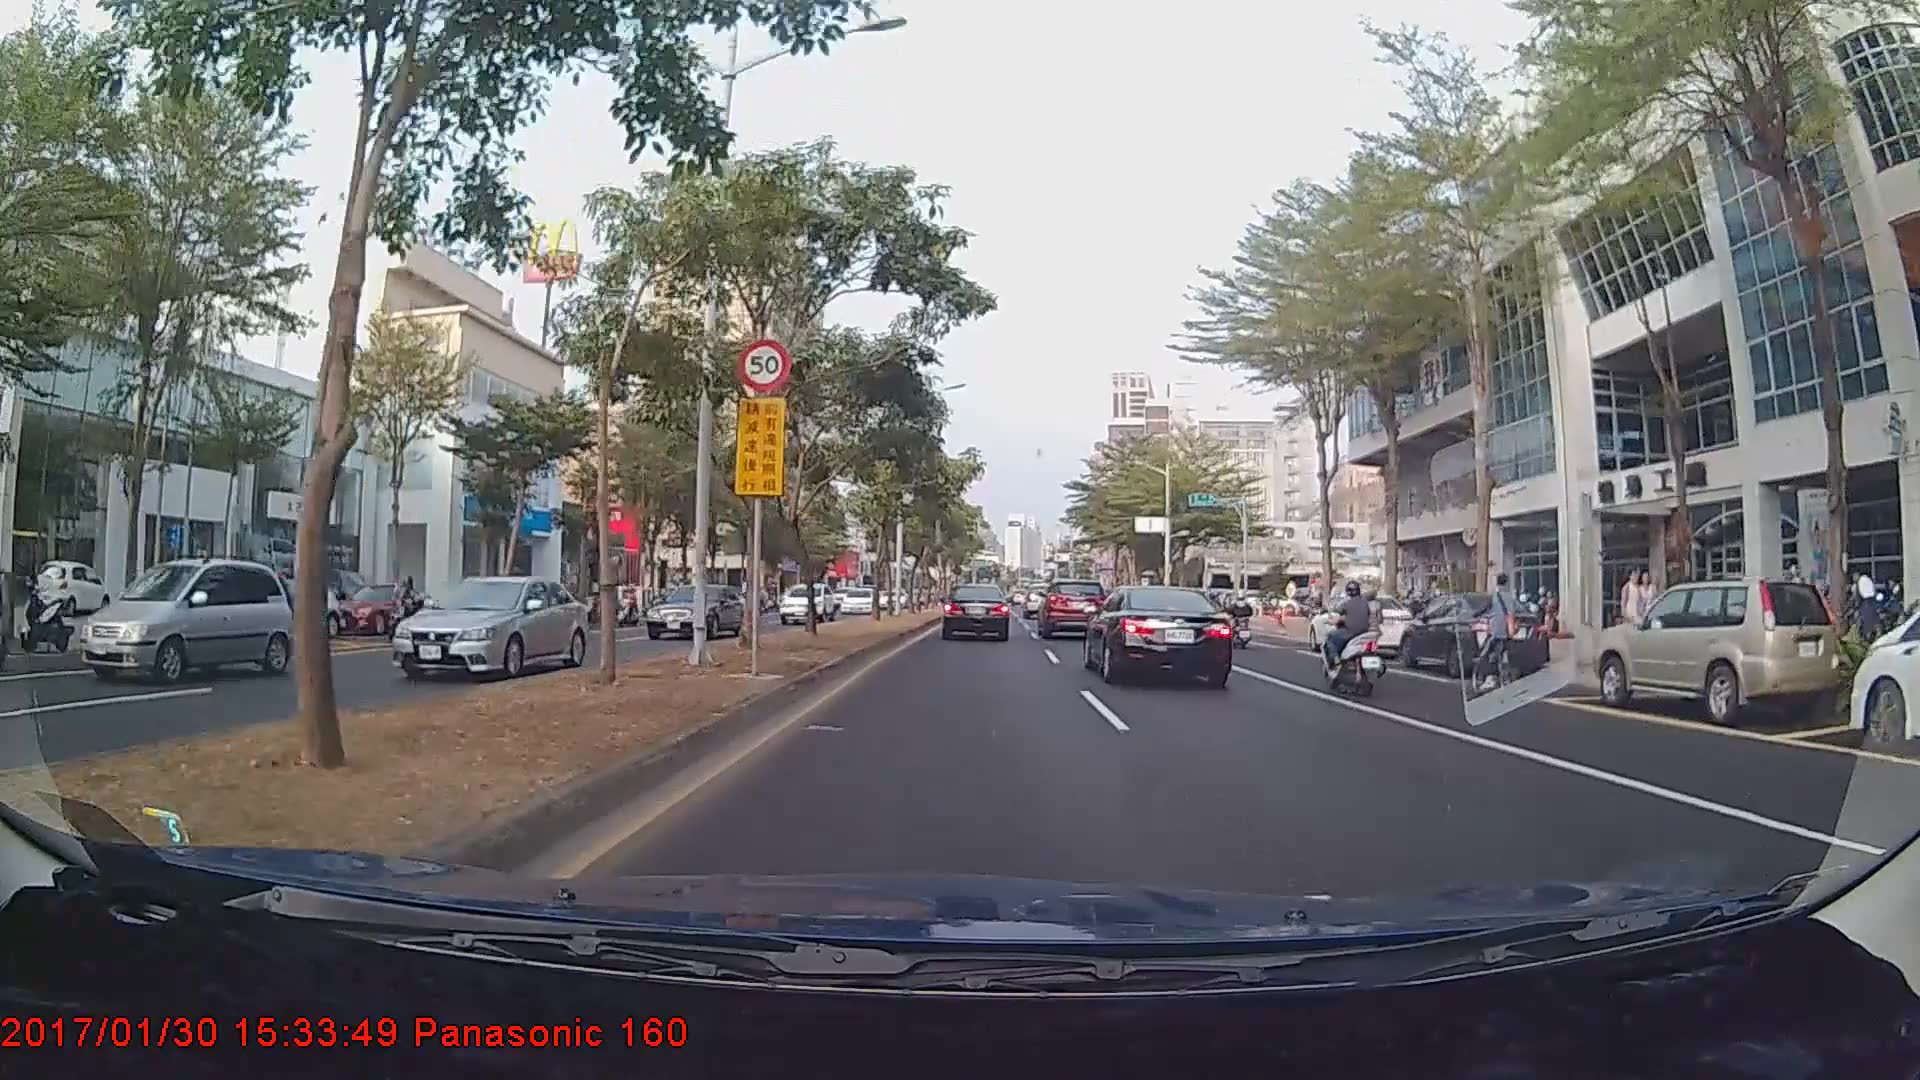pedestrian: (1621, 570, 1648, 654)
rider: (1314, 577, 1395, 701), (1464, 574, 1535, 706), (1357, 584, 1410, 678), (1225, 593, 1260, 648)
vehicle: (1594, 573, 1836, 722), (77, 558, 293, 686), (389, 574, 591, 680), (1084, 580, 1234, 688), (1845, 572, 1920, 751), (1396, 590, 1549, 677), (1305, 591, 1419, 659), (238, 578, 342, 642), (642, 579, 745, 639), (327, 579, 430, 635), (942, 582, 1011, 642), (1039, 578, 1101, 638), (777, 583, 836, 625), (1022, 582, 1061, 618), (840, 586, 875, 615)
